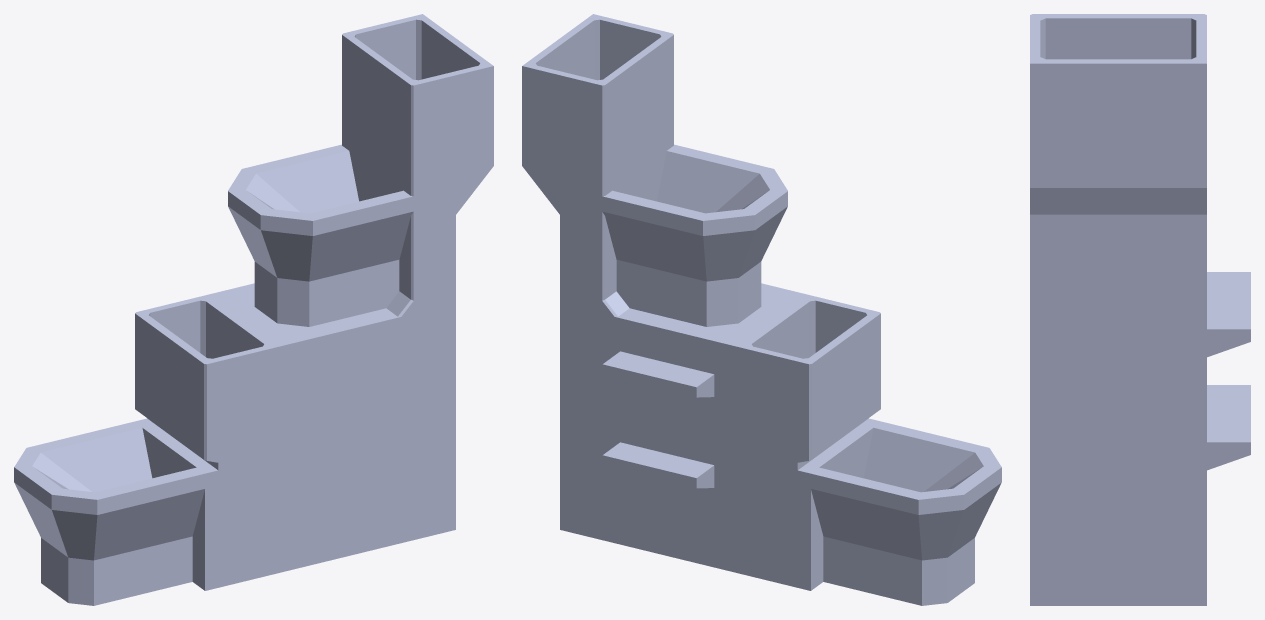
File: Duplex_Toliet_Double_Deck.FBX
3 views of the same model, side by side, from view 1: azimuth 30°, elevation 25°; view 2: azimuth 150°, elevation 25°; view 3: azimuth 270°, elevation 25° (orthographic). The views are drawn at different scales.
Visible parts, largest first — view 1: LPattern1; view 2: LPattern1; view 3: LPattern1.
Boxes of the visible parts, x1,y1,x2,y2 form: LPattern1: (14,14,493,605); LPattern1: (522,14,1001,605); LPattern1: (1030,14,1250,605).
Bounding box in the file's own units: 58.75 × 60 × 21.24.
